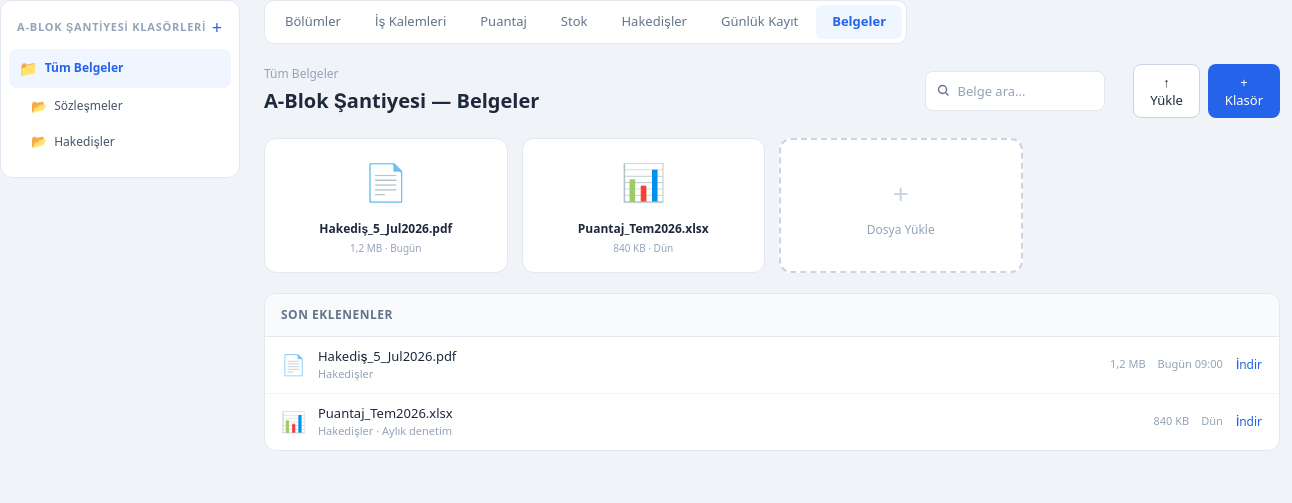
Test: SiteDocumentsView — kart ızgarası (ŞB 94-133) › indirme hatası Türkçe ve görünür basılır (sessiz yutma YOK)
Click the button "📄 Hakediş_5_Jul2026.pdf 1,2 MB · Bugün".
click(386, 205)  # box top-left (264, 138), bottom-right (508, 272)
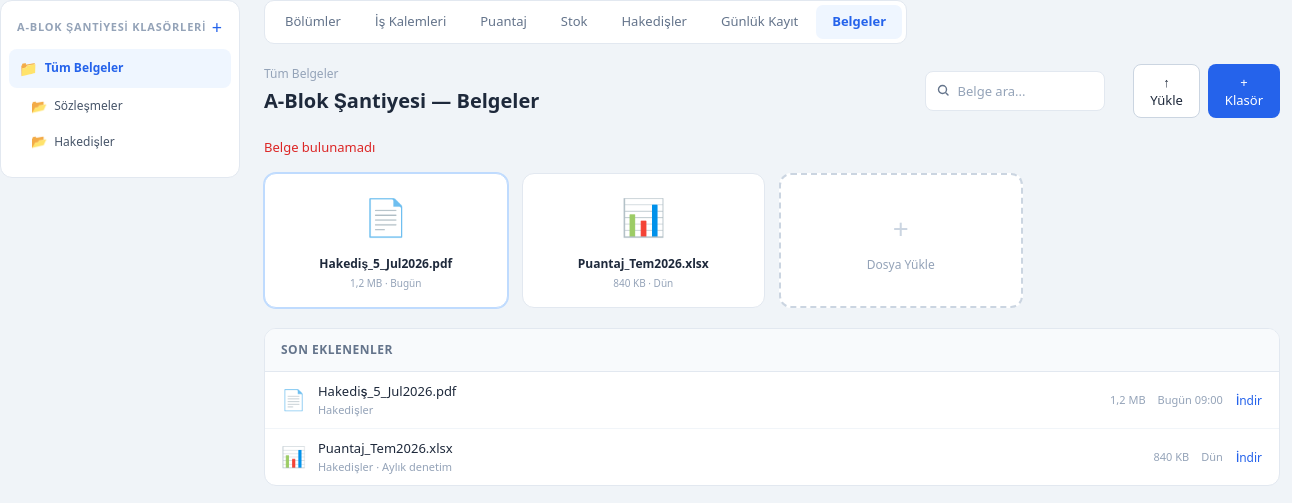
Now the text "Belge bulunamadı" is shown, box top-left (264, 138), bottom-right (375, 156)
